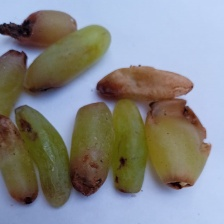grapes: (50, 37, 185, 180)
